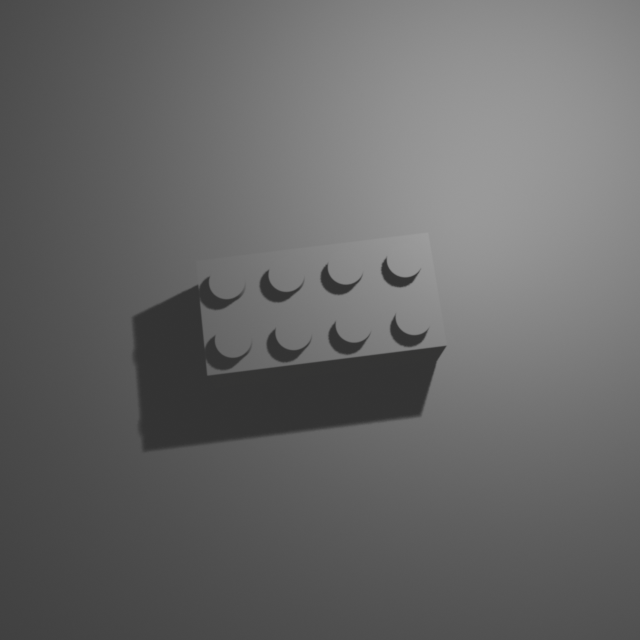lego_2x4: (194, 229, 449, 388)
